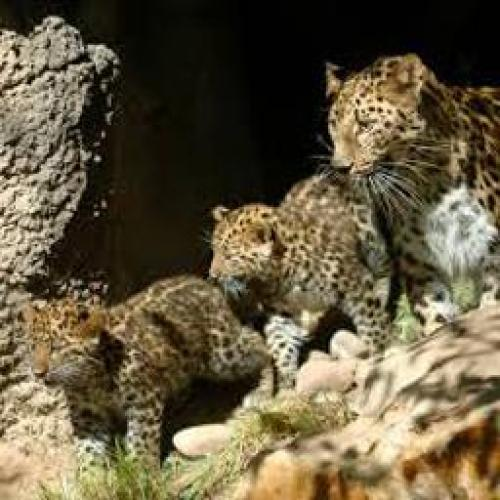amur_leopard-endangered: (318, 51, 500, 328), (30, 276, 270, 469), (198, 168, 390, 371)
